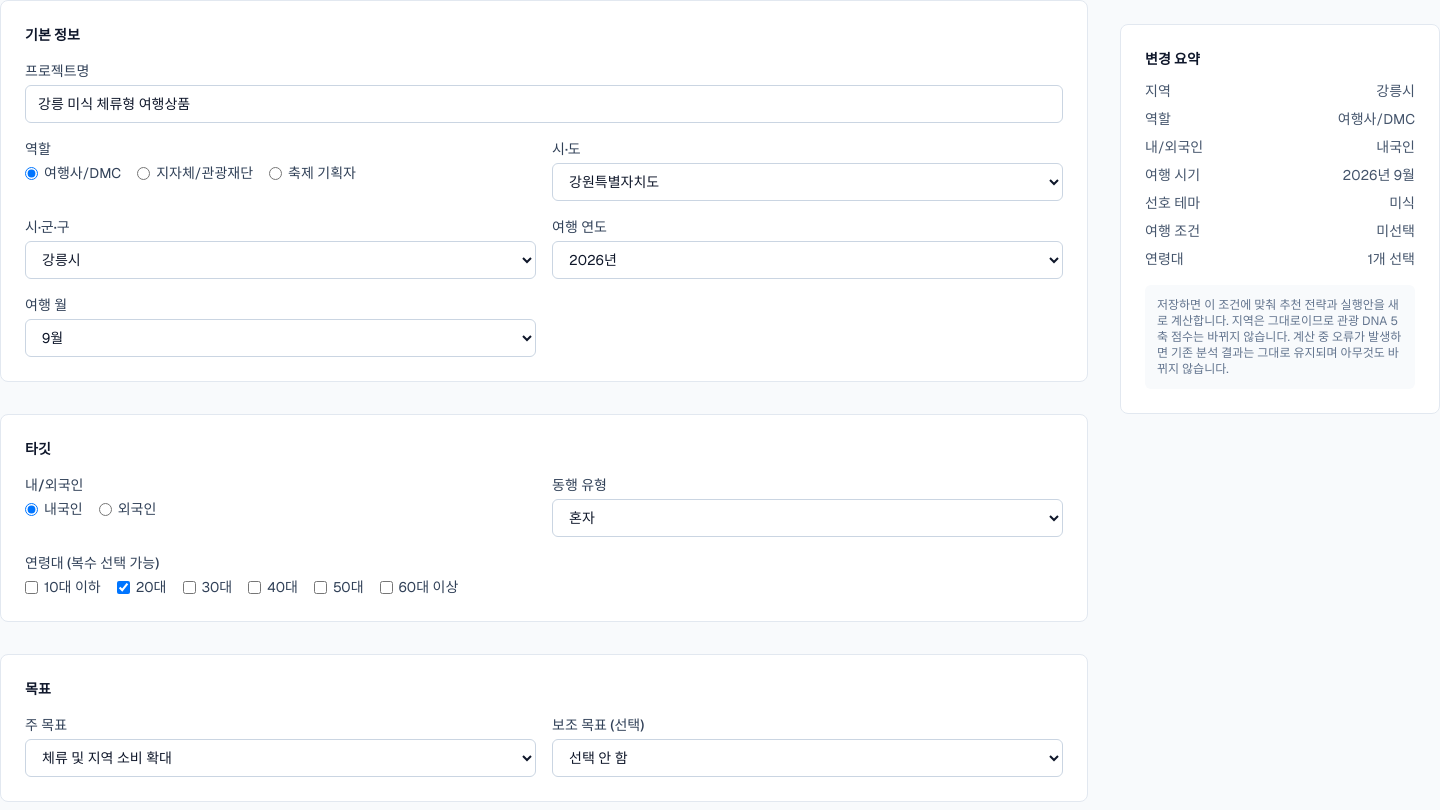
Test case: ProjectEditForm — 현재 값 프리로드 및 변경사항 미리보기 › 시·도를 바꾸면 '새 지역 기준으로 다시 계산'한다는 안내로 전환된다
Select "충청북도" in the dropdown labelled "시·도" at (808, 182), box left=552, top=163, right=1063, bottom=201
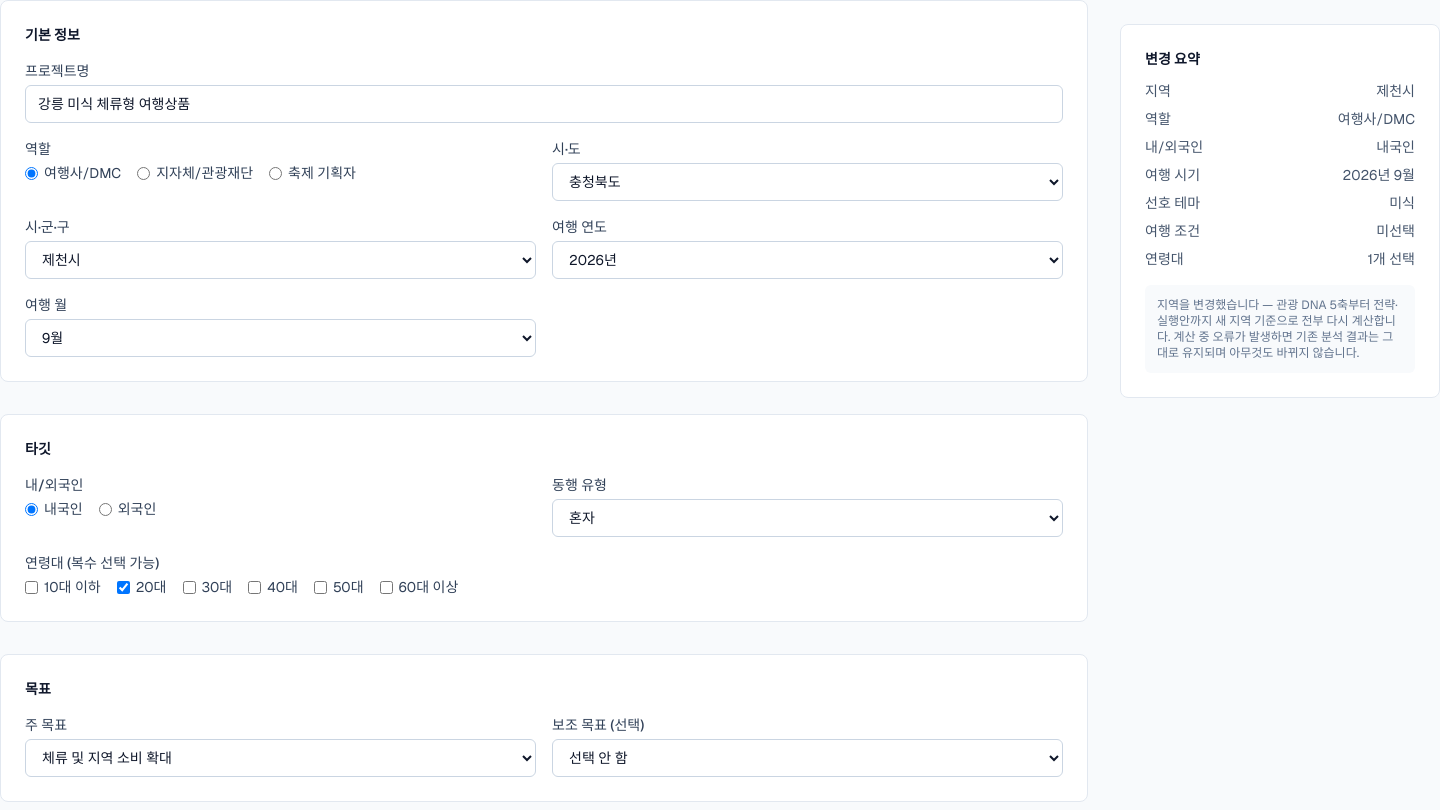
Check: the text "새 지역 기준으로 전부 다시 계산합니다" is shown, box left=1157, top=297, right=1398, bottom=345
